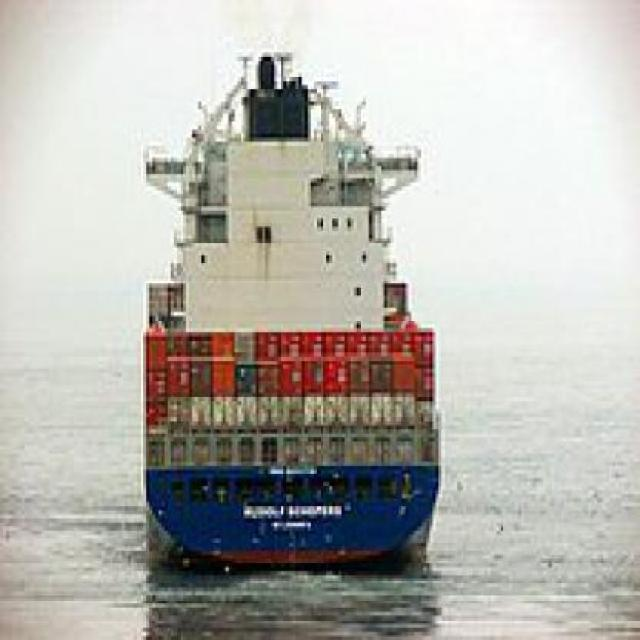container: (135, 49, 446, 576)
